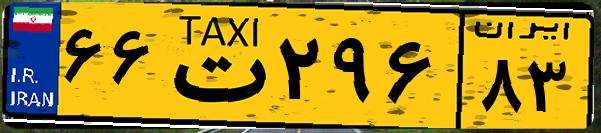2: (270, 28, 330, 110)
3: (525, 38, 570, 115)
6: (385, 28, 445, 110), (57, 26, 110, 100), (110, 28, 158, 98)
8: (475, 38, 525, 113)
9: (330, 28, 385, 110)
ت: (158, 12, 270, 120)
